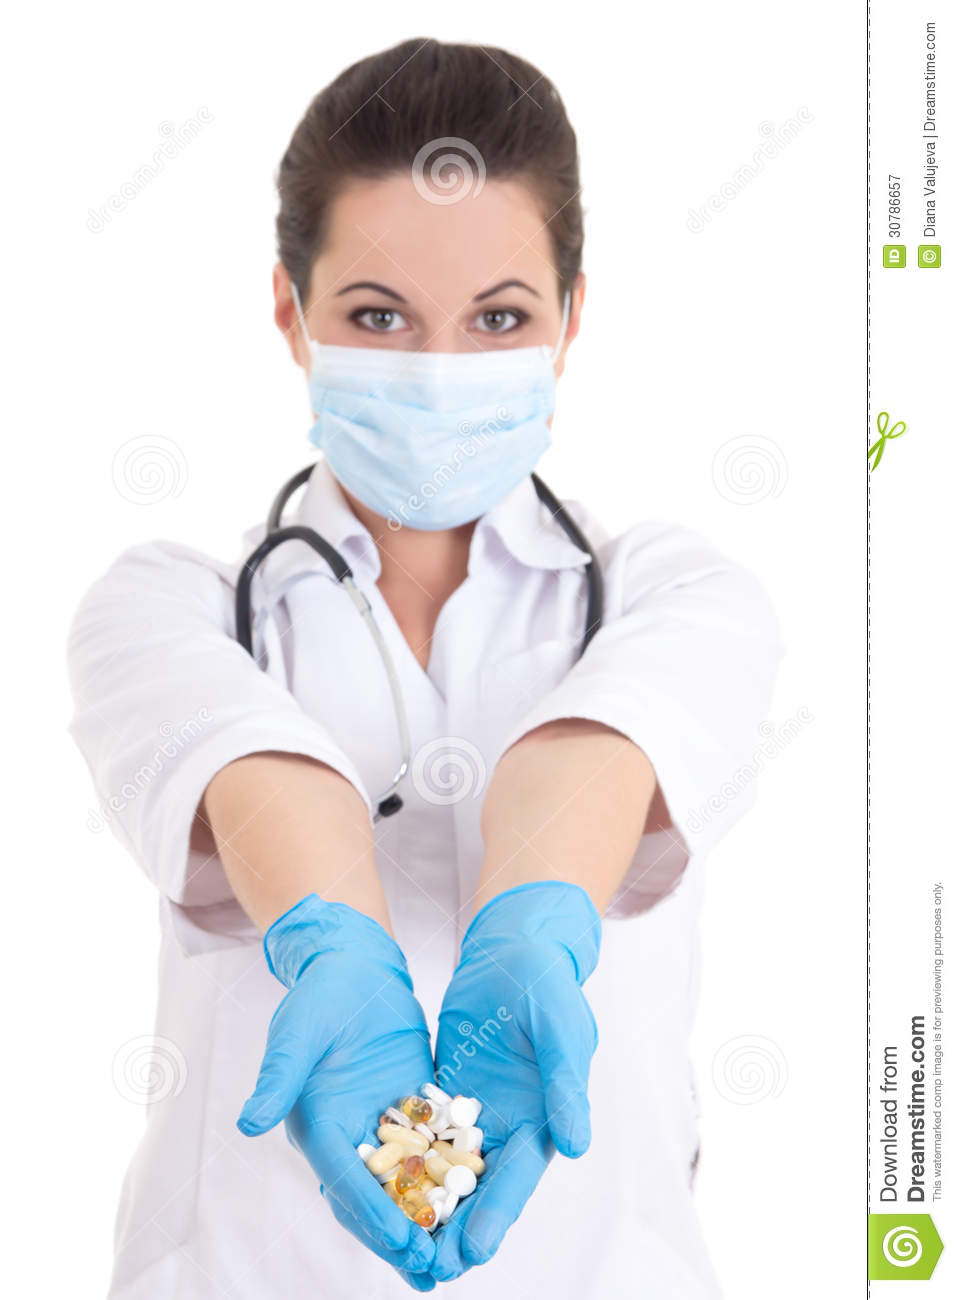mask: (306, 336, 557, 531)
